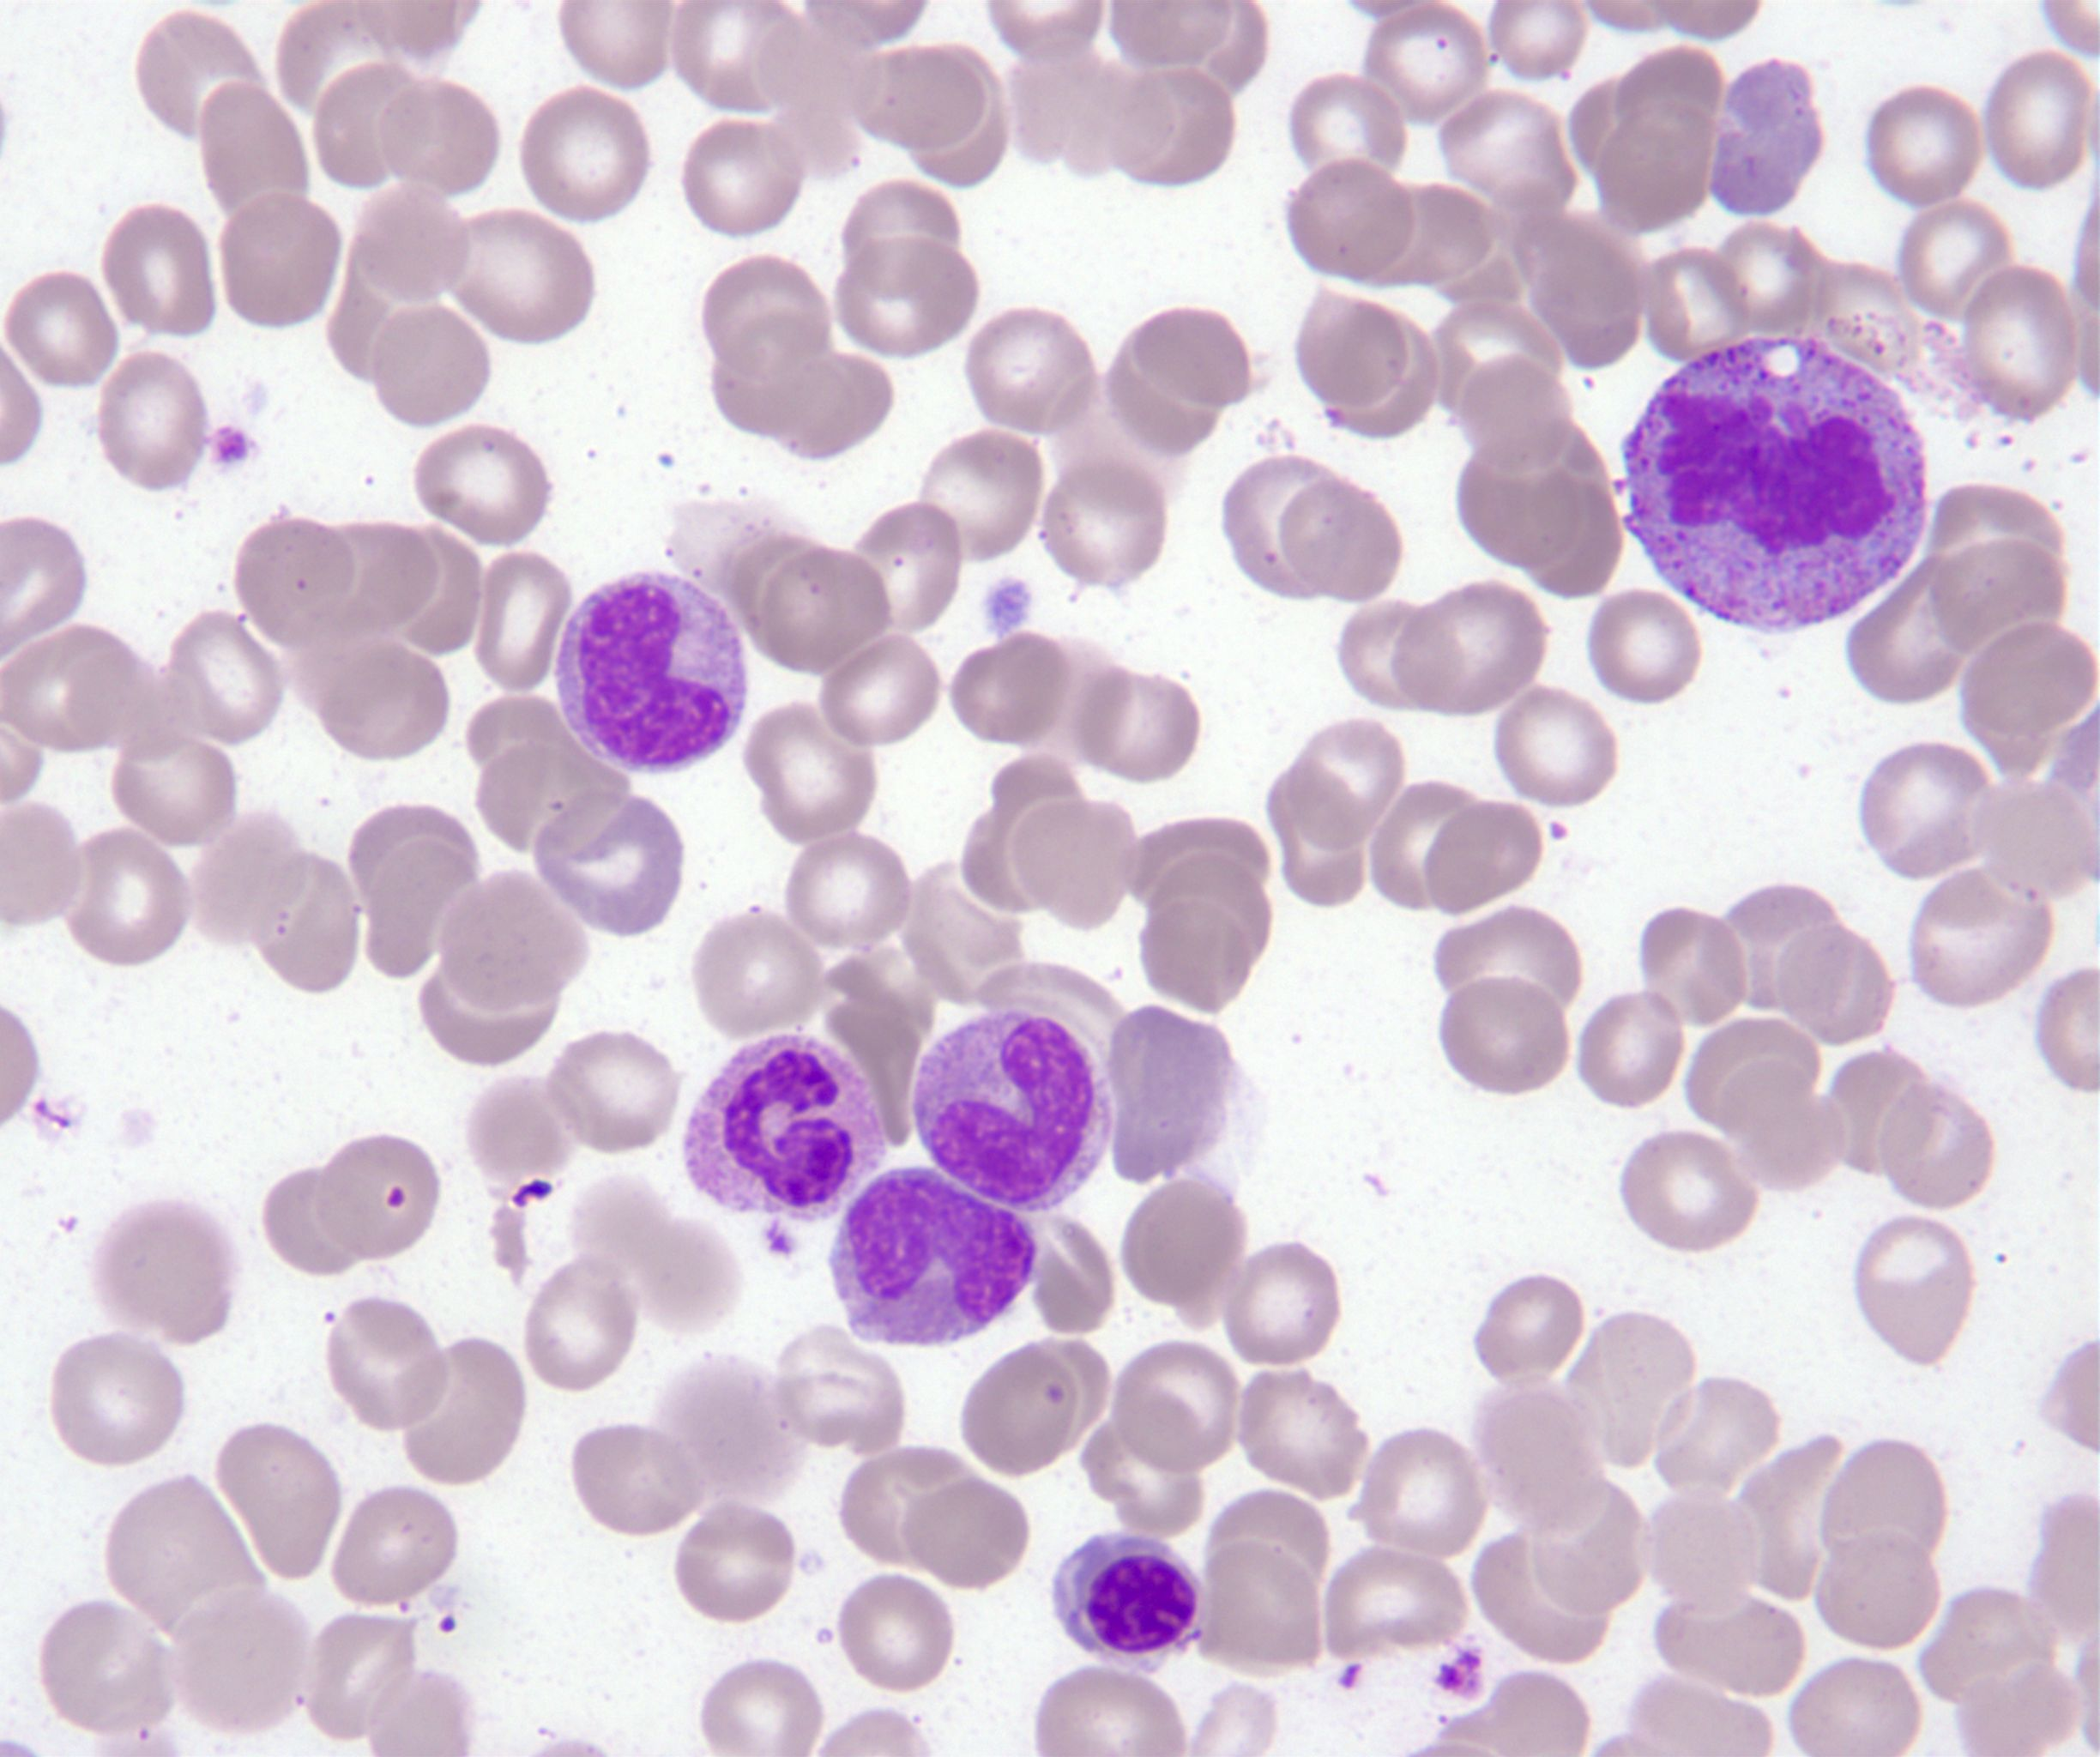24: (1055, 1534, 1202, 1668)
4: (555, 576, 747, 775), (830, 1171, 1034, 1347)
5: (914, 1012, 1111, 1214), (684, 1035, 886, 1221)
x: (1626, 340, 1922, 630)
